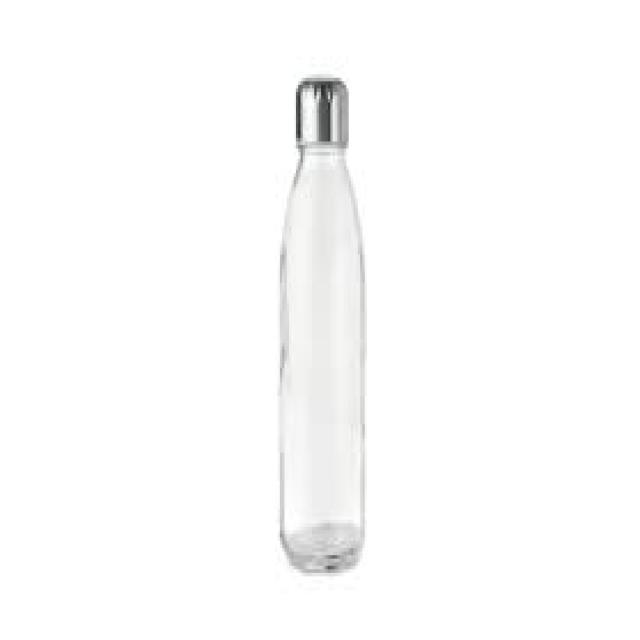Glass: (281, 148, 365, 572)
